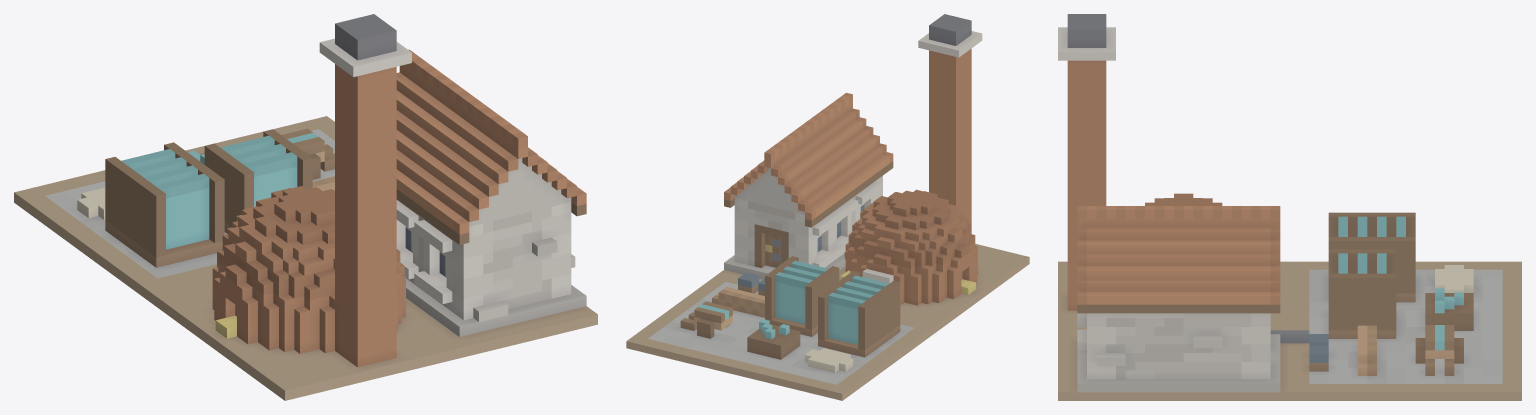
The model's file is glass_smelter.glb.
The picture shows the model from 3 angles, left to right: view 1: azimuth 30°, elevation 25°; view 2: azimuth 150°, elevation 25°; view 3: azimuth 270°, elevation 25°; orthographic projection. The views are drawn at different scales.
Visible parts, largest first — view 1: glass_smelter; view 2: glass_smelter; view 3: glass_smelter.
Part boxes in pixels (x1,y1,x2,y2): glass_smelter: [14, 14, 597, 400]; glass_smelter: [626, 14, 1029, 400]; glass_smelter: [1058, 14, 1521, 400].
Size of the model in its own units: 4 by 4.12 by 6.
